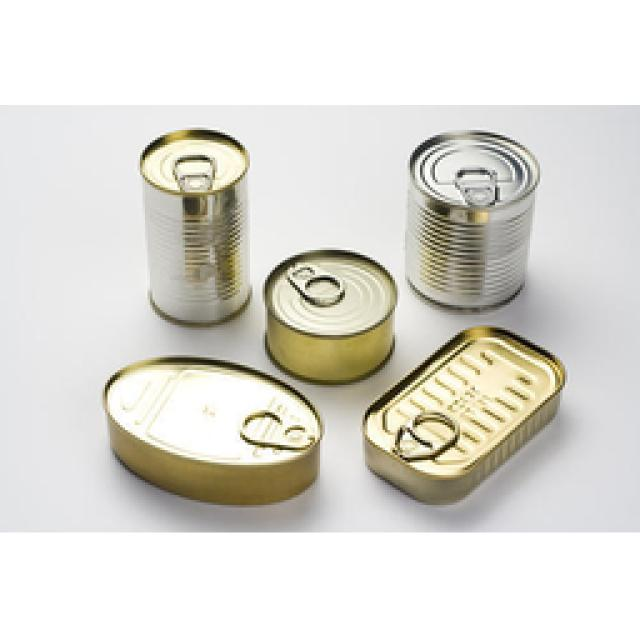alumunium: (365, 328, 562, 498), (102, 358, 318, 502), (405, 130, 538, 310), (140, 130, 250, 322), (262, 250, 395, 382)
